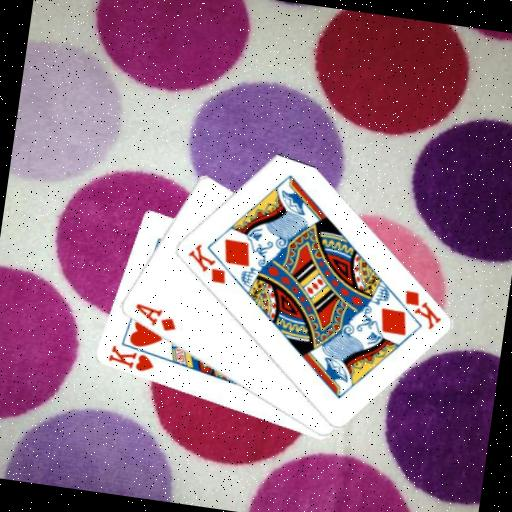AD: (129, 300, 180, 335)
KD: (181, 239, 232, 286), (396, 286, 446, 333)
KH: (104, 342, 157, 376)
